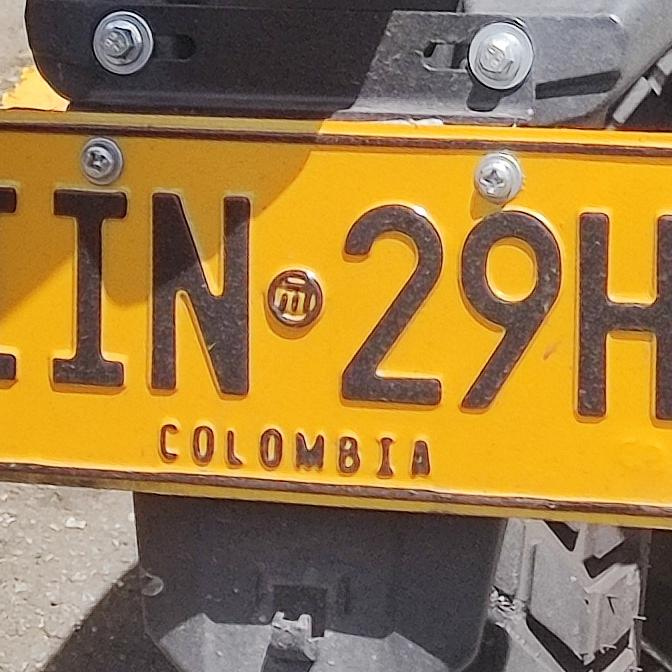plates: (0, 107, 672, 532)
